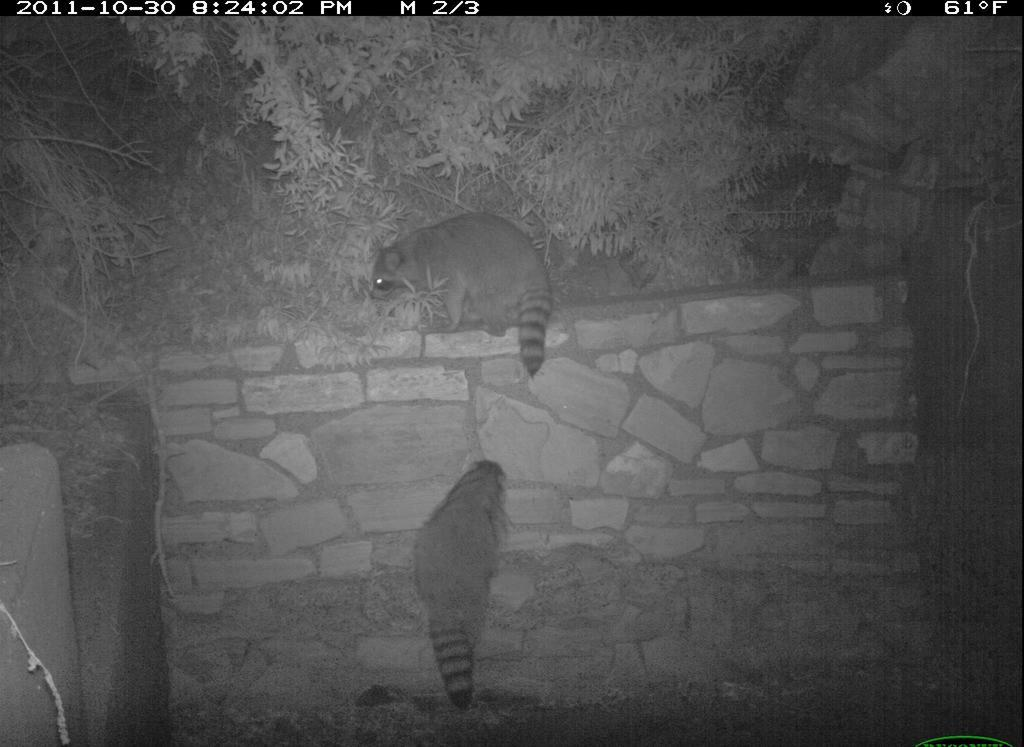raccoon: (364, 210, 562, 383), (404, 450, 514, 715)
